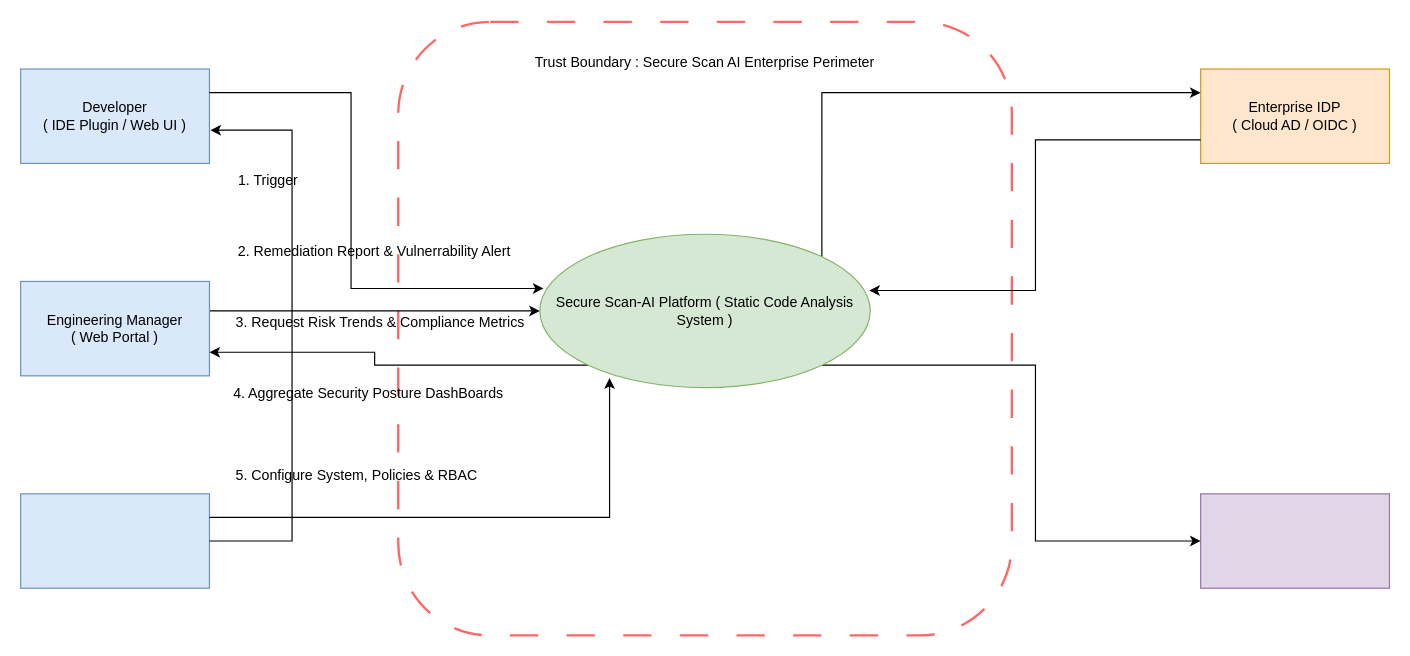
Image size: 1410x656. Some labels were removed from this diagram. The shapes that lost their labels are listed below. From the top down, each one's box as (x1, y1, x2, y2) in pixels, then its label:
(19, 493, 209, 588): System Administrator ( Web Portal / Admin API )
(1199, 493, 1389, 588): Source Code VCS ( Enterprise Git / GitLab )
